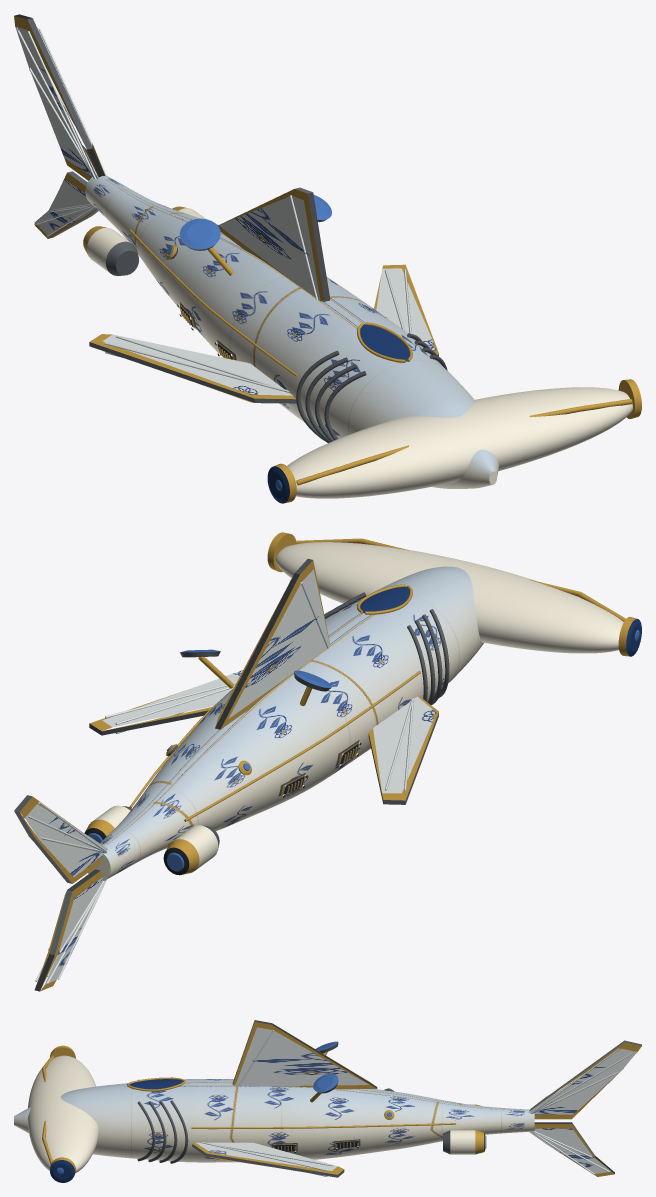
3 renders of one model, top to bottom at view 1: azimuth 30°, elevation 25°; view 2: azimuth 150°, elevation 25°; view 3: azimuth 270°, elevation 25°, orthographic. The views are drawn at different scales.
Visible parts, largest first — view 1: hammerhead_hull; view 2: hammerhead_hull; view 3: hammerhead_hull.
Part boxes in pixels (x1,y1,x2,y2): hammerhead_hull: (14, 14, 641, 503); hammerhead_hull: (14, 532, 641, 991); hammerhead_hull: (14, 1020, 641, 1182).
Size of the model in its own units: 119 by 74.23 by 272.
Materials: 1 (1 with a texture image).
